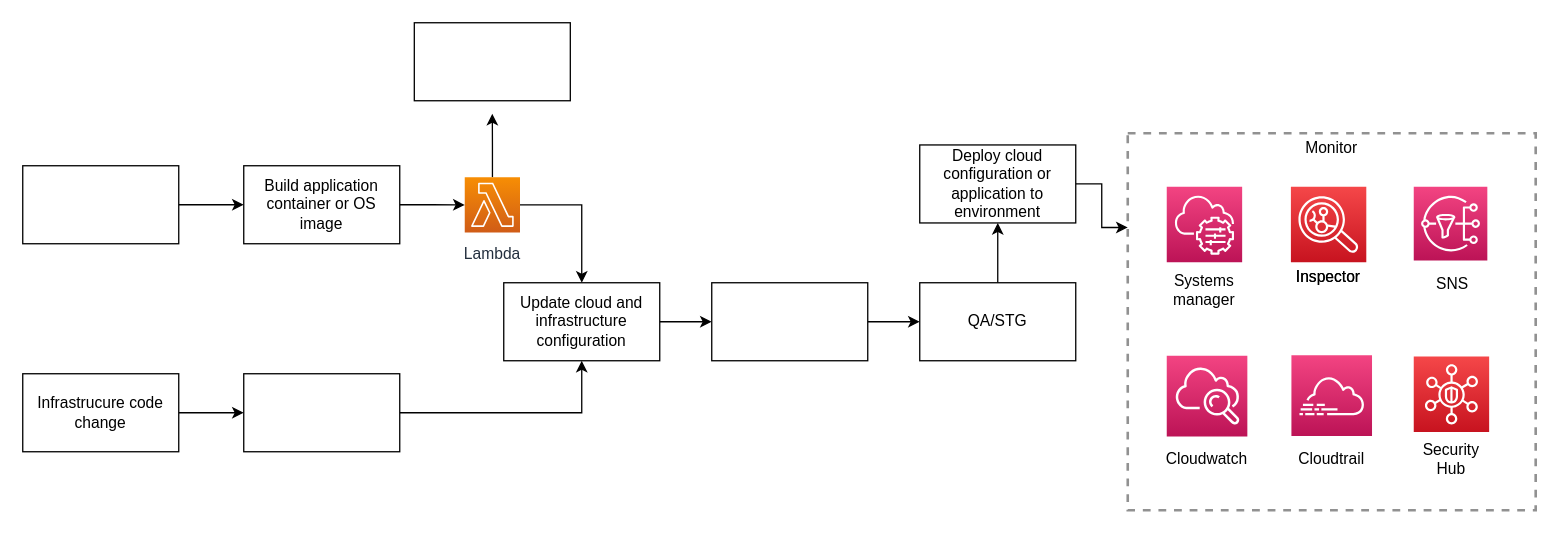
The diagram is 1560 pixels wide and 534 high, and some of its shapes have lost their labels. Each missing label, with the box of its shape:
Application code or OS change: (21, 164, 179, 244)
DEV: (710, 281, 868, 361)
Scan container anchore: (413, 21, 570, 101)
Static scan Cloud Sploit: (242, 372, 400, 452)
